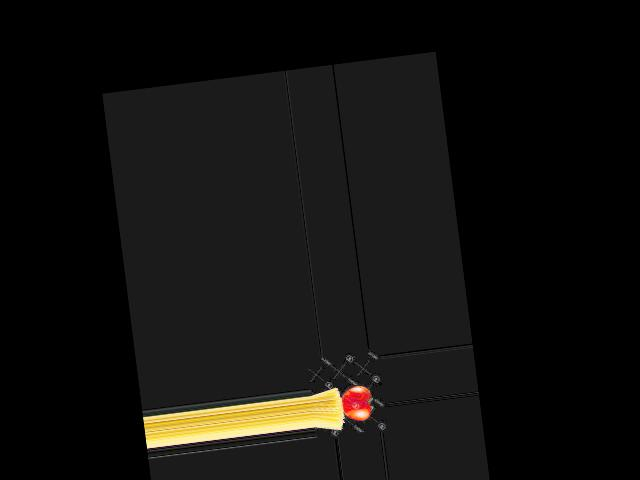tomato: (340, 385, 373, 422)
